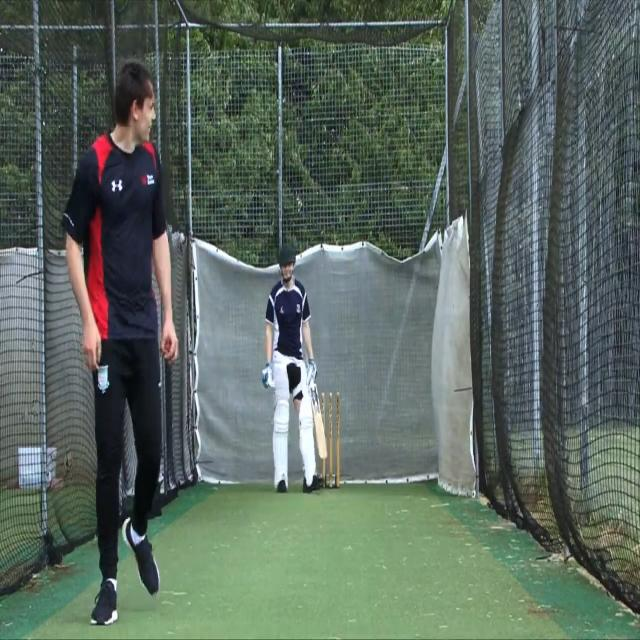batsman: (260, 244, 330, 496)
